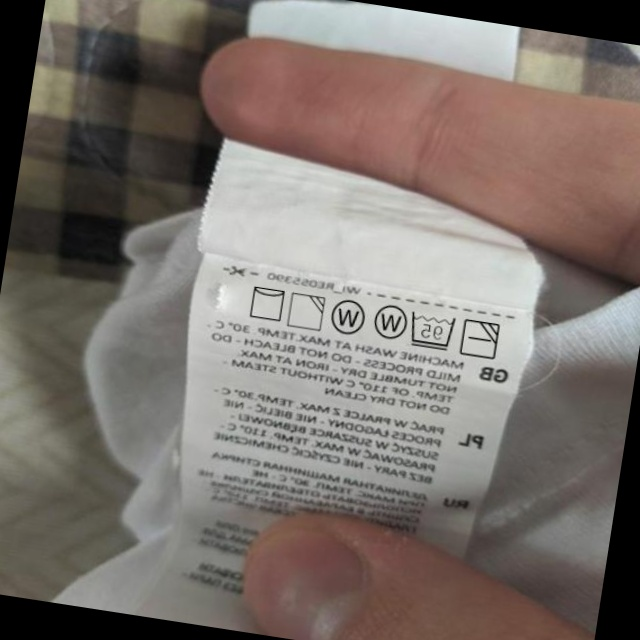95C: (405, 308, 458, 353)
dry_flat_in_shade: (458, 315, 503, 362)
line_dry: (244, 281, 289, 324)
shade_dry: (284, 289, 328, 333)
wet_clean: (369, 298, 410, 343), (327, 296, 368, 340)
